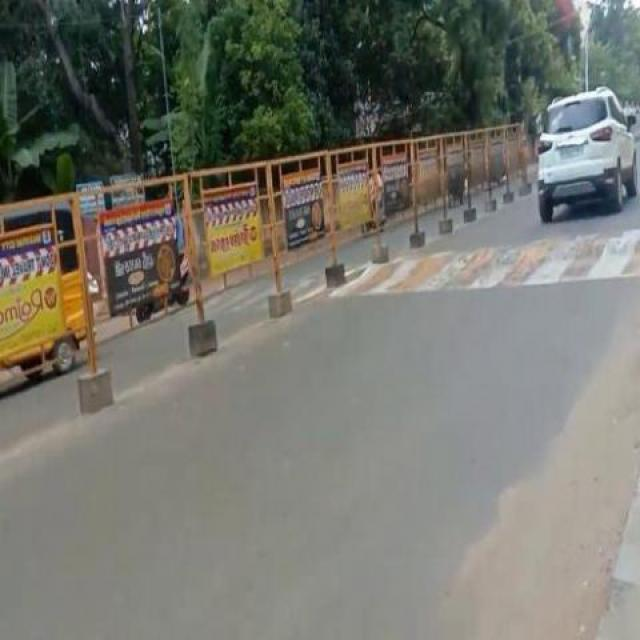Speed Bump: (451, 226, 638, 296), (388, 250, 454, 294), (220, 272, 270, 308), (346, 262, 389, 296), (291, 267, 326, 305)
